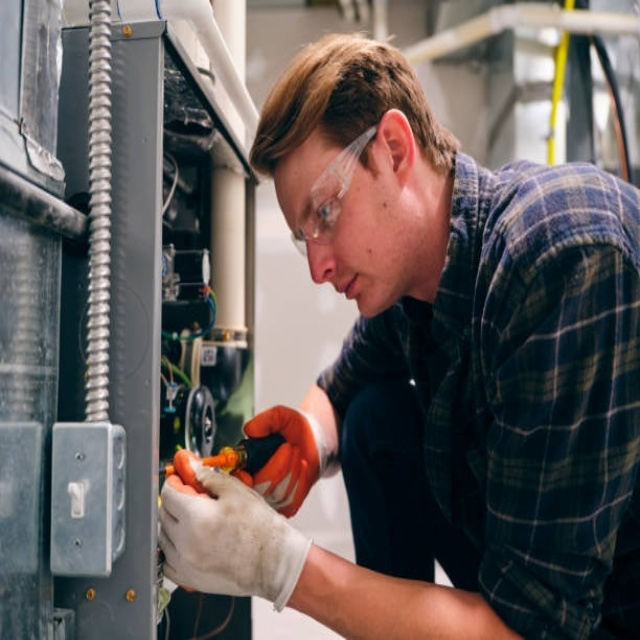Gafas: (288, 124, 378, 262)
Guantes: (160, 443, 322, 616), (240, 403, 329, 518)
Sin_mascara: (311, 264, 373, 317)
